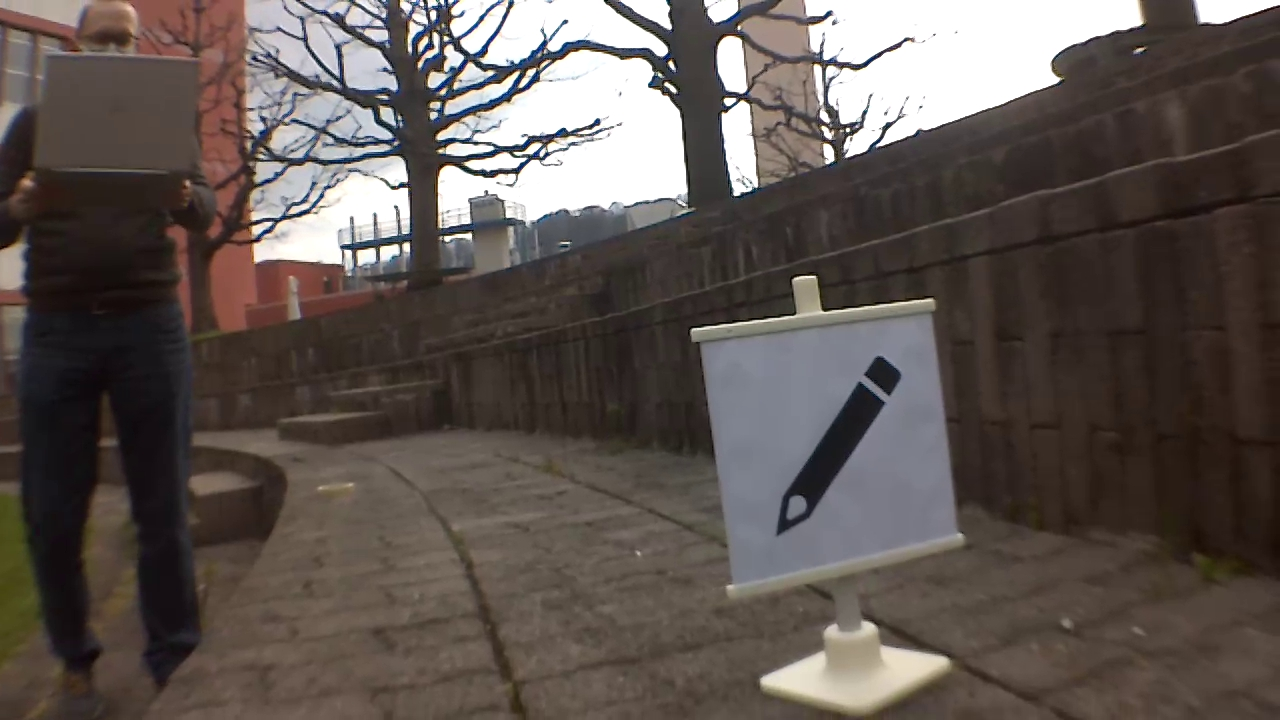pencil: (773, 349, 908, 535)
